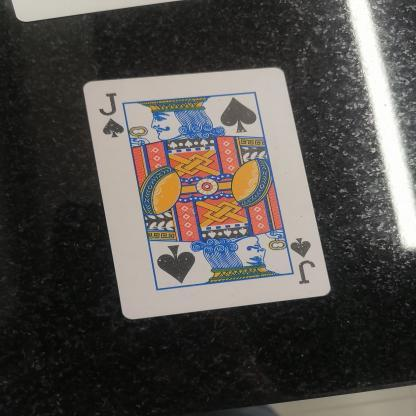JS: (283, 235, 322, 287), (99, 92, 127, 144)
